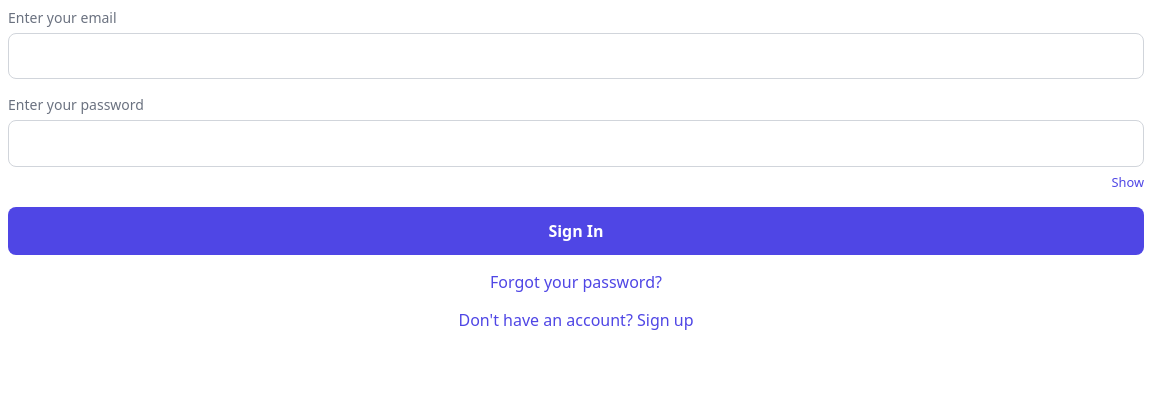
Test: AuthKitEmailComponent › renders a safe provider failure
The width and height of the screenshot is (1152, 406).
In the field with id "ak-email": (576, 56) [8,33,1144,79], type "ada@example.com"
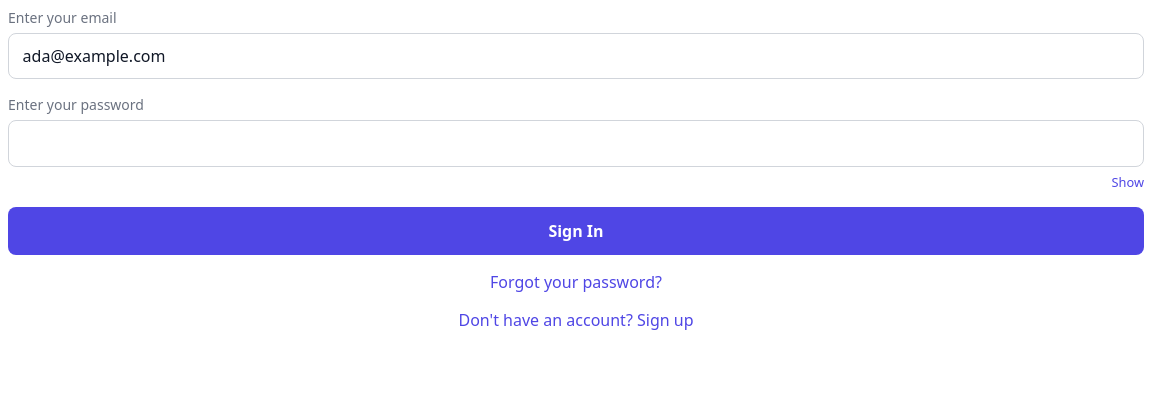
In the password field with id "ak-password": (576, 144) [8,120,1144,167], type "wrong-password"
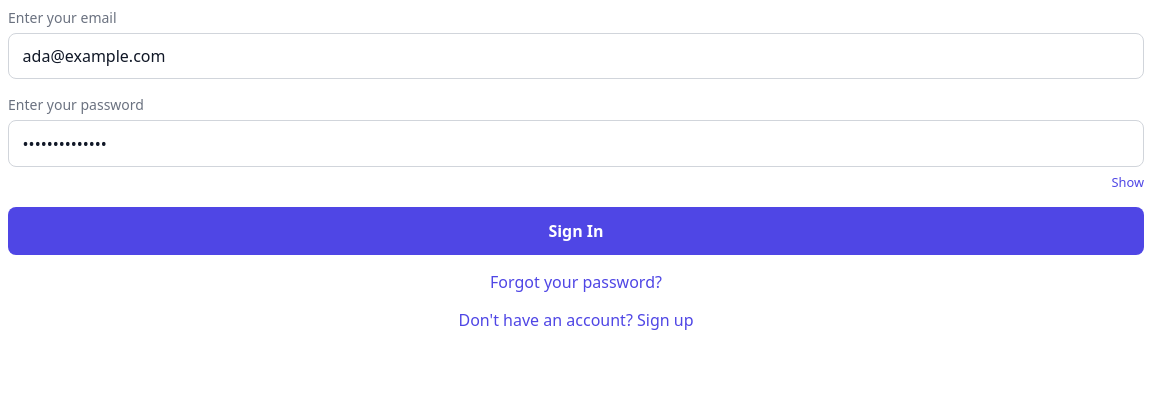
Submit the form
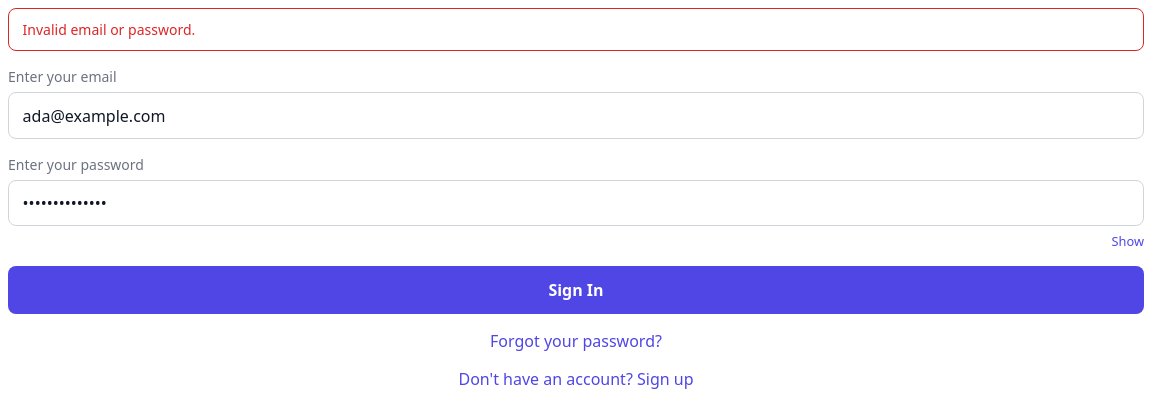
Now the text "Invalid email or password." is shown, box [8,8,1144,51]
